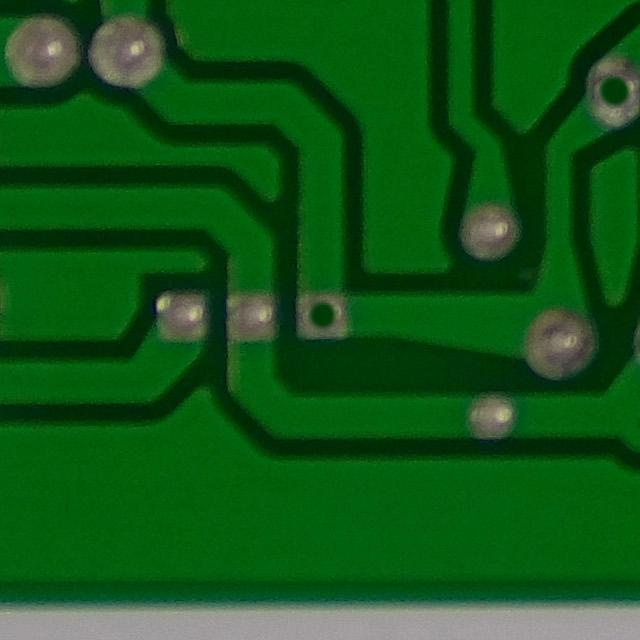missing_hole: (287, 285, 354, 354)
